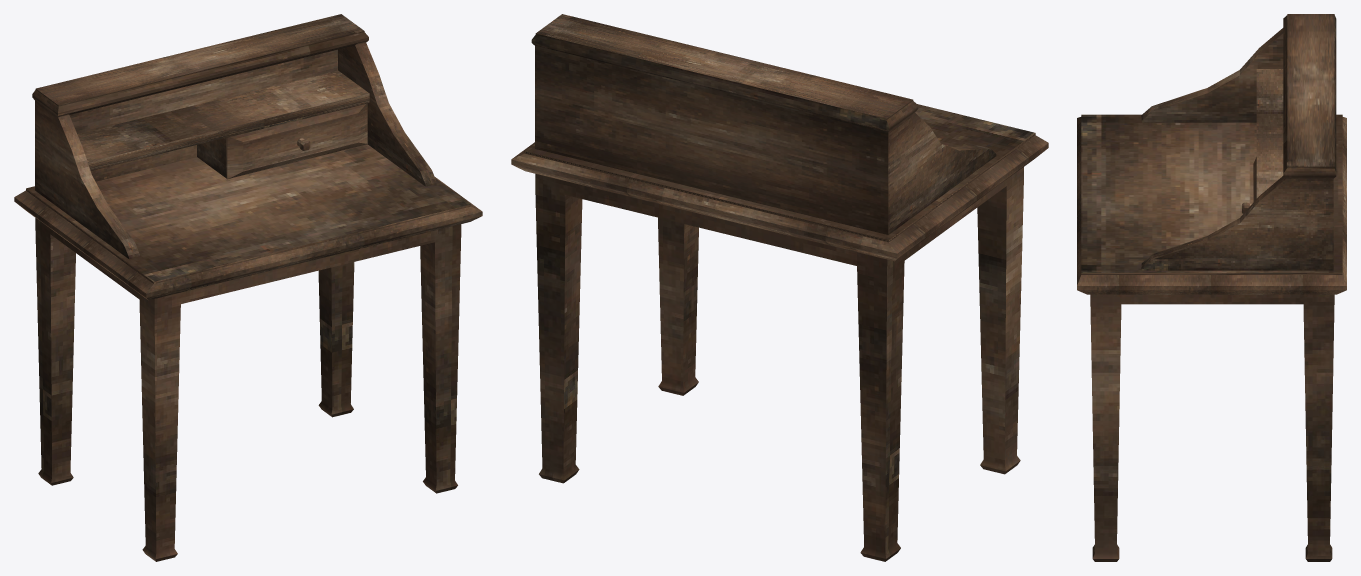
Rendered from Desk.fbx.
The picture shows the model from 3 angles, left to right: view 1: azimuth 30°, elevation 25°; view 2: azimuth 150°, elevation 25°; view 3: azimuth 270°, elevation 25°; orthographic projection. The views are drawn at different scales.
Visible parts, largest first — view 1: DeskTop, DeskBottom; view 2: DeskTop, DeskBottom; view 3: DeskTop, DeskBottom.
Part boxes in pixels (x1=…): DeskTop: x1=14, y1=14, x2=482, y2=300; DeskBottom: x1=35, y1=218, x2=461, y2=561; DeskTop: x1=511, y1=14, x2=1048, y2=261; DeskBottom: x1=535, y1=167, x2=1023, y2=561; DeskTop: x1=1077, y1=14, x2=1346, y2=294; DeskBottom: x1=1090, y1=294, x2=1334, y2=561.
Bounding box in the file's own units: 3.08 × 3.39 × 2.09.
Materials: 1 (1 with a texture image).
